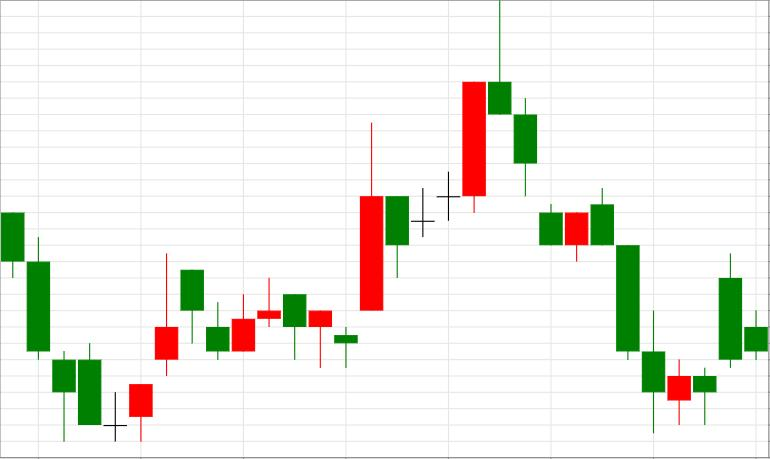morning_star_rise: (1, 212, 153, 442)
shooting_star_fall: (360, 0, 511, 311)
